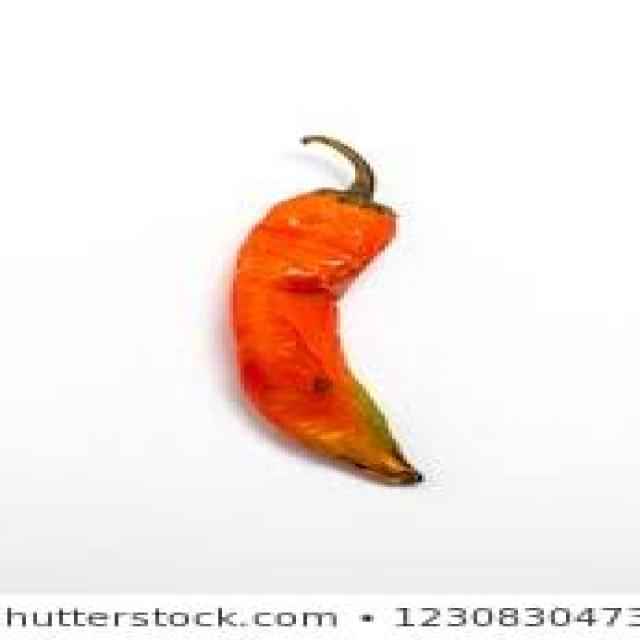organic waste: (226, 137, 422, 482)
